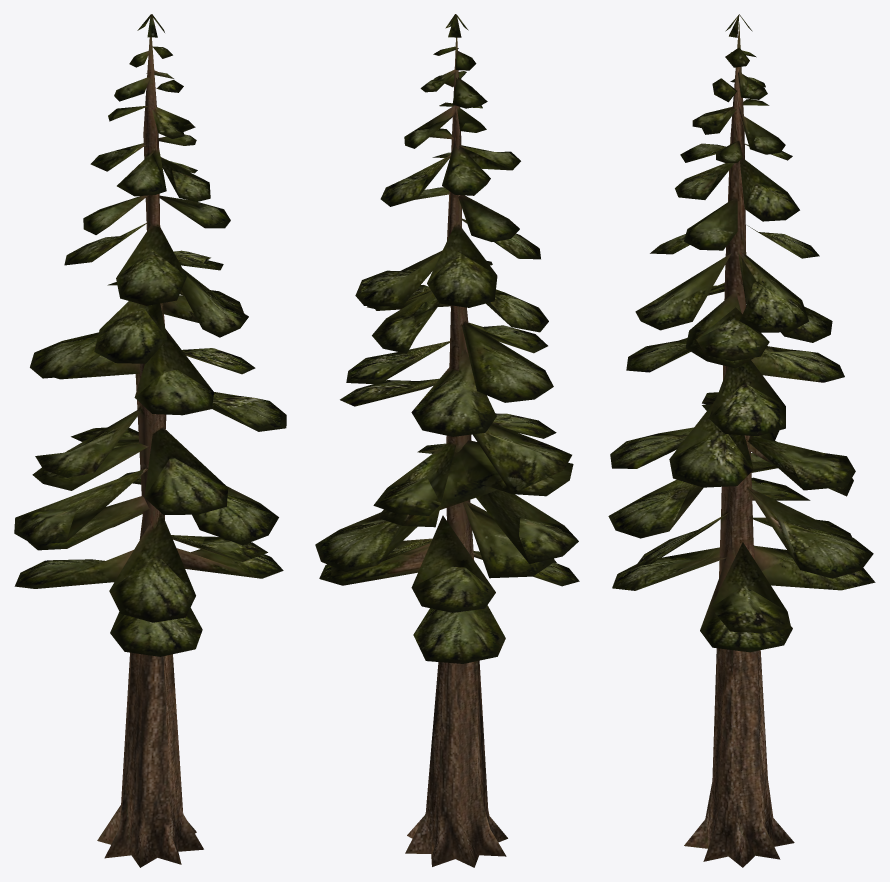
The model's file is tall+conifer+tree+3d+model.glb.
3 renders of one model, left to right at view 1: azimuth 30°, elevation 25°; view 2: azimuth 150°, elevation 25°; view 3: azimuth 270°, elevation 25°, orthographic.
Visible parts, largest first — view 1: tripo_node_50ca04df-d380-4543-ae29-4f874646fe55; view 2: tripo_node_50ca04df-d380-4543-ae29-4f874646fe55; view 3: tripo_node_50ca04df-d380-4543-ae29-4f874646fe55.
Part boxes in pixels (<box>): tripo_node_50ca04df-d380-4543-ae29-4f874646fe55: <box>14,14,286,867</box>; tripo_node_50ca04df-d380-4543-ae29-4f874646fe55: <box>315,14,579,867</box>; tripo_node_50ca04df-d380-4543-ae29-4f874646fe55: <box>608,14,875,867</box>.
Bounding box in the file's own units: 0.3105 × 0.998 × 0.291.
Materials: 1 (1 with a texture image).
